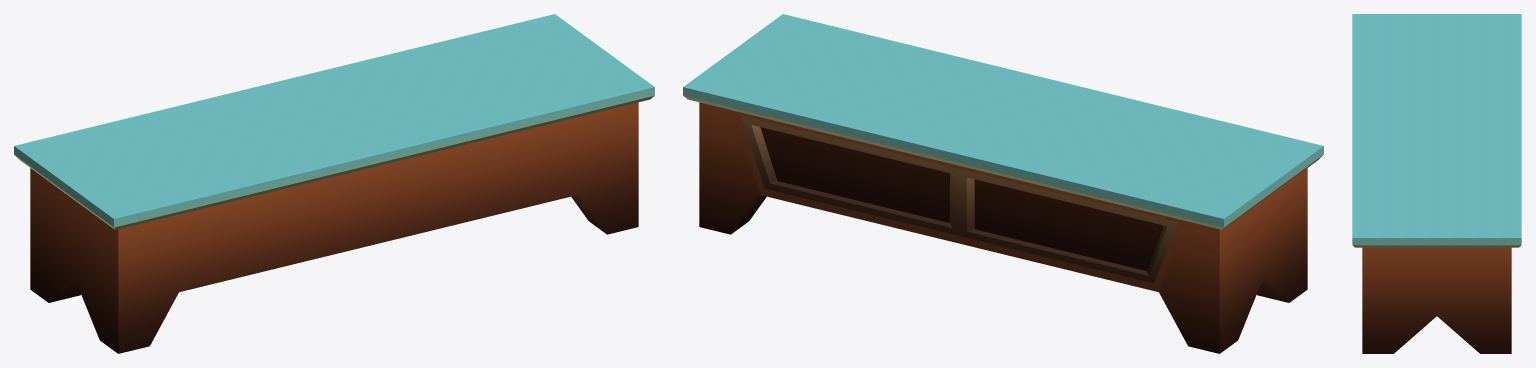
The model's file is UnderTVDresser.FBX.
The picture shows the model from 3 angles, left to right: view 1: azimuth 30°, elevation 25°; view 2: azimuth 150°, elevation 25°; view 3: azimuth 270°, elevation 25°; orthographic projection. The views are drawn at different scales.
Parts seen in each view (by area): view 1: Tv Stand; view 2: Tv Stand; view 3: Tv Stand.
Part boxes in pixels (left/top/right/bottom): Tv Stand: left=14, top=14, right=654, bottom=353; Tv Stand: left=683, top=14, right=1323, bottom=353; Tv Stand: left=1352, top=14, right=1521, bottom=353.
Size of the model in its own units: 130 by 32.45 by 41.45.
Materials: 1 (1 with a texture image).
